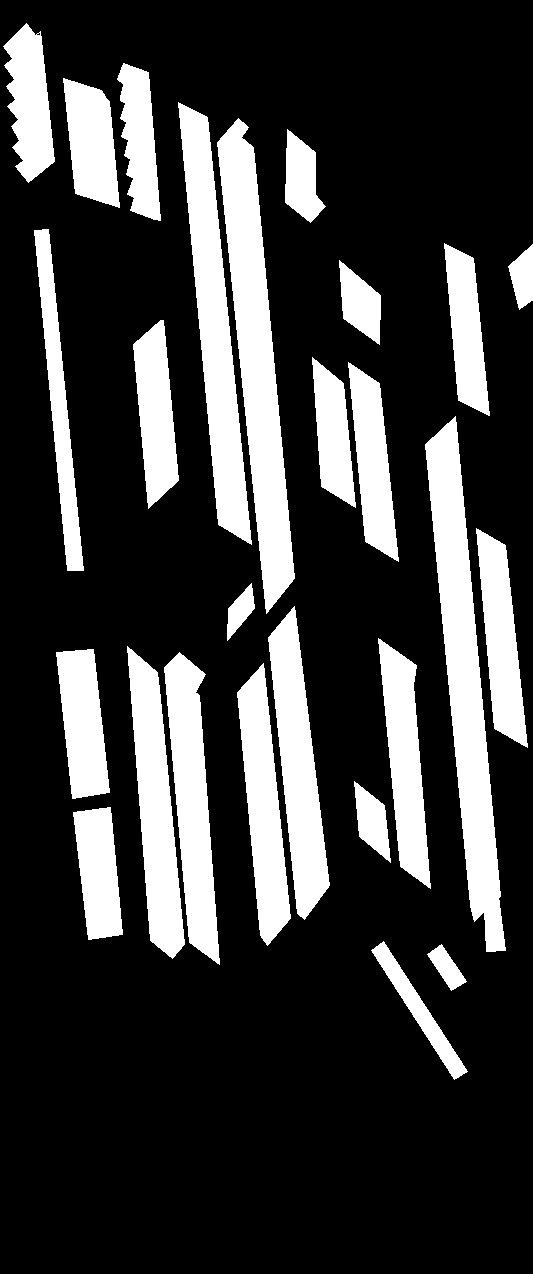parkingspot: (217, 118, 294, 613), (425, 416, 500, 921), (178, 102, 251, 544), (268, 606, 329, 919), (127, 646, 184, 958), (164, 652, 219, 964), (34, 229, 83, 570), (237, 663, 290, 945), (371, 941, 467, 1079), (378, 638, 430, 888), (476, 528, 527, 747), (348, 362, 398, 561), (133, 320, 178, 508), (3, 23, 54, 182), (56, 649, 109, 798), (444, 243, 489, 415), (63, 78, 119, 207), (117, 63, 160, 220), (73, 807, 122, 939), (312, 357, 355, 507), (285, 129, 325, 222), (339, 260, 380, 344), (354, 781, 390, 862), (427, 944, 466, 990), (508, 244, 533, 309), (227, 583, 254, 640), (484, 896, 505, 951)
